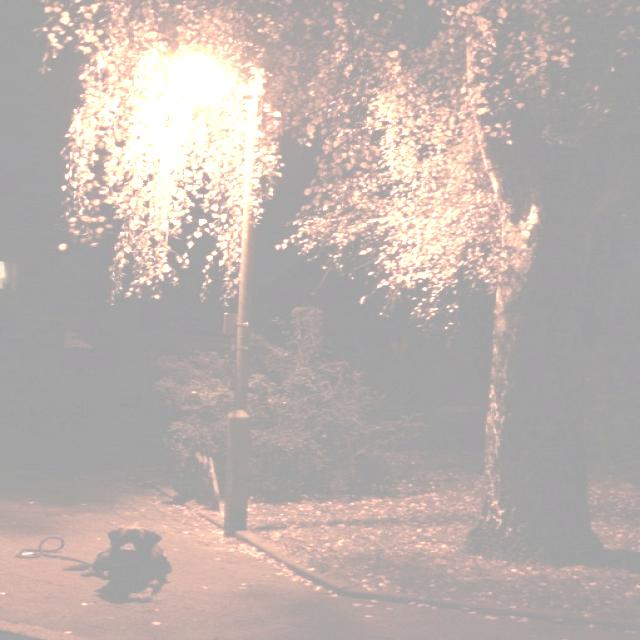Dog: (57, 494, 212, 632)
